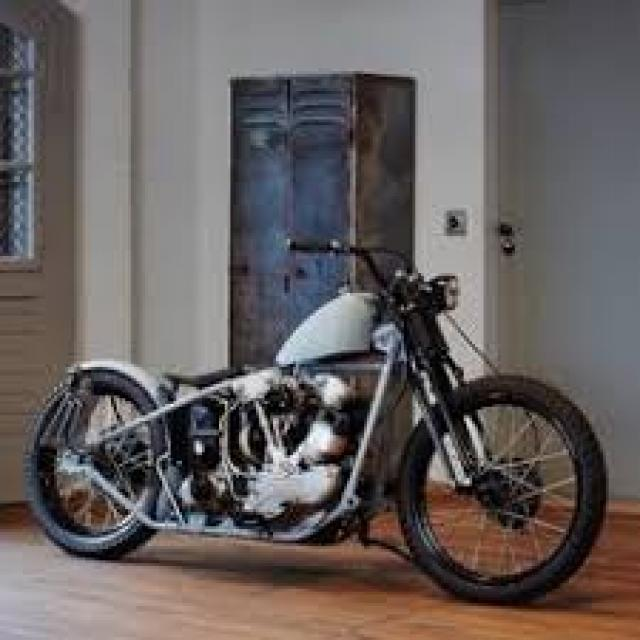Bike: (34, 235, 604, 595)
